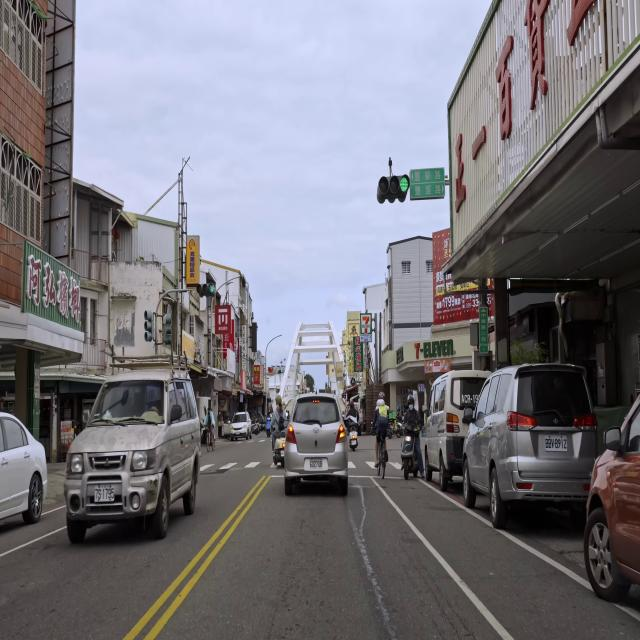green light: (378, 175, 409, 196), (196, 283, 214, 295)
